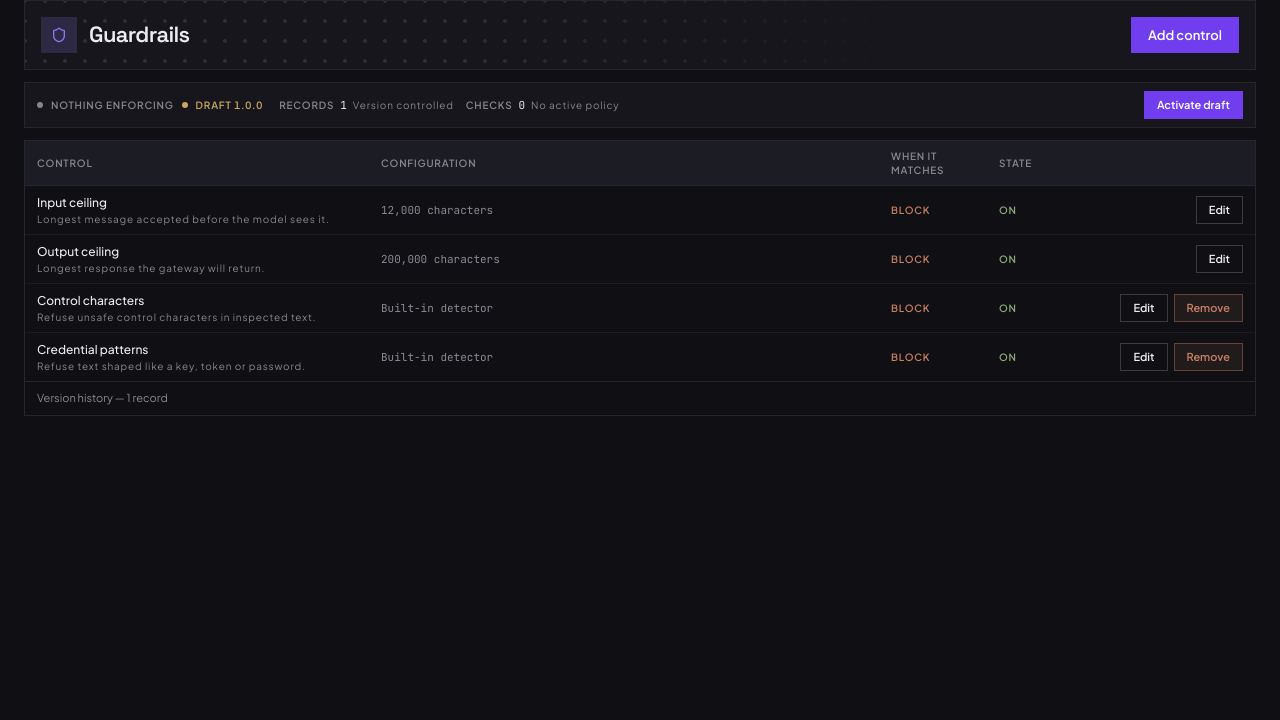
a policy another operator moved first › saves the edit on the retry after a conflict
Click the button "Edit" in the row of "Input ceiling" at {"x": 1219, "y": 210}, box [1196, 196, 1243, 224]
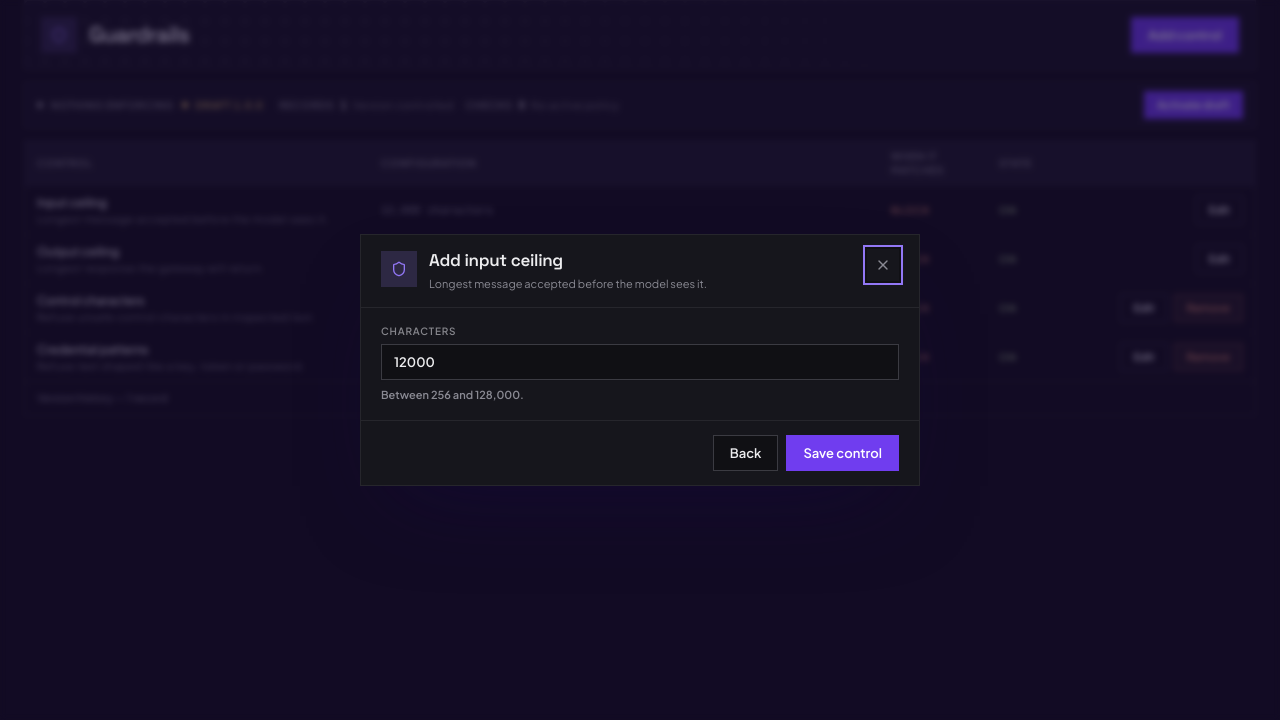
Click the button "Save control" at {"x": 843, "y": 453}, box [786, 435, 899, 471]
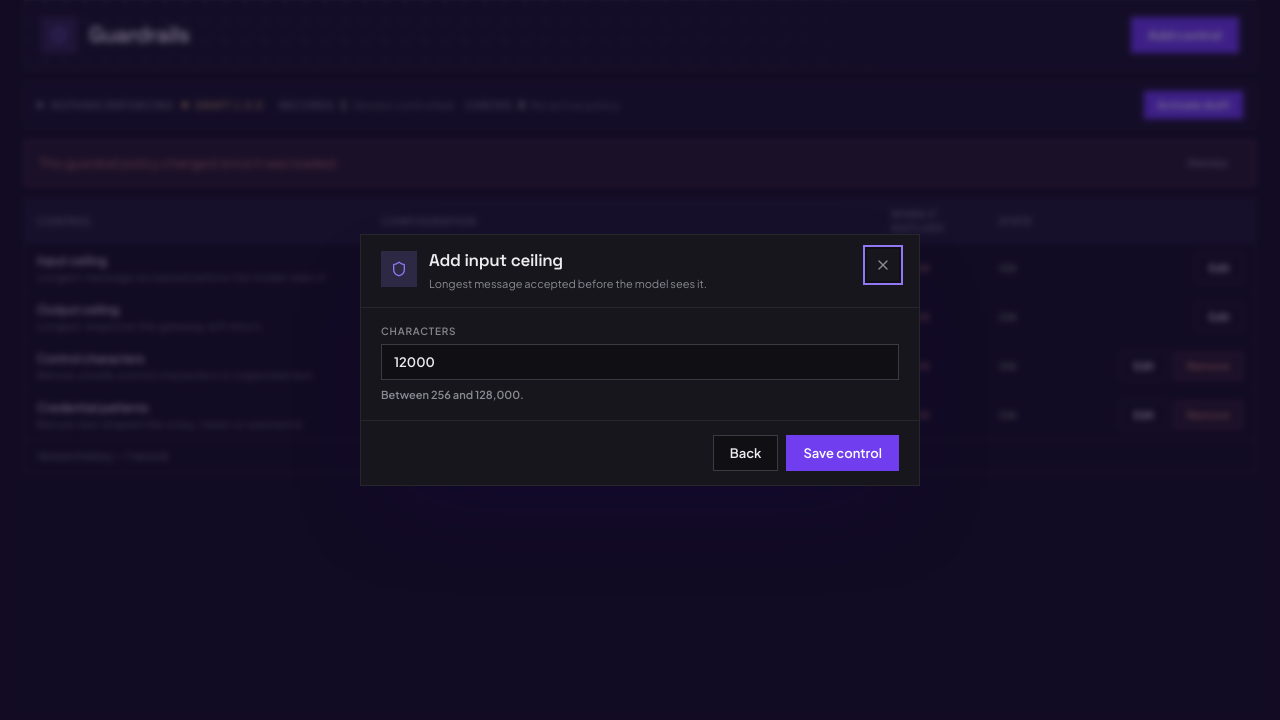
Click the button "Save control" at {"x": 843, "y": 453}, box [786, 435, 899, 471]
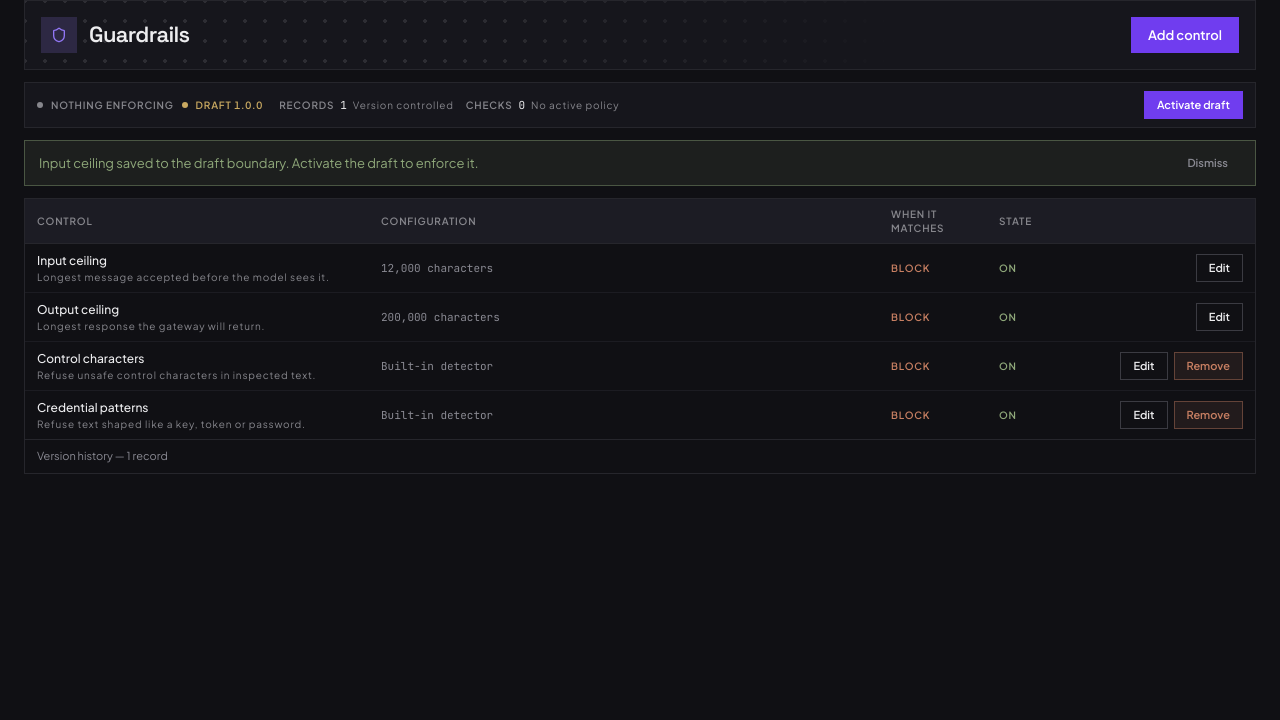
Expected: the text "Input ceiling saved" is shown, [39, 155, 478, 171]
